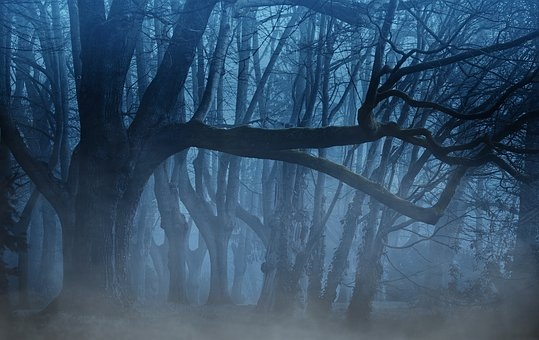forest: (8, 3, 537, 340)
tree: (20, 1, 223, 300)
